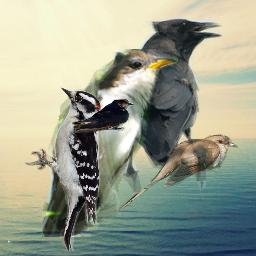Crow: (111, 13, 223, 192)
Cuckoo: (42, 49, 178, 237), (119, 134, 238, 211)
Swallow: (72, 99, 134, 133)
Woodpecker: (25, 85, 103, 252)
